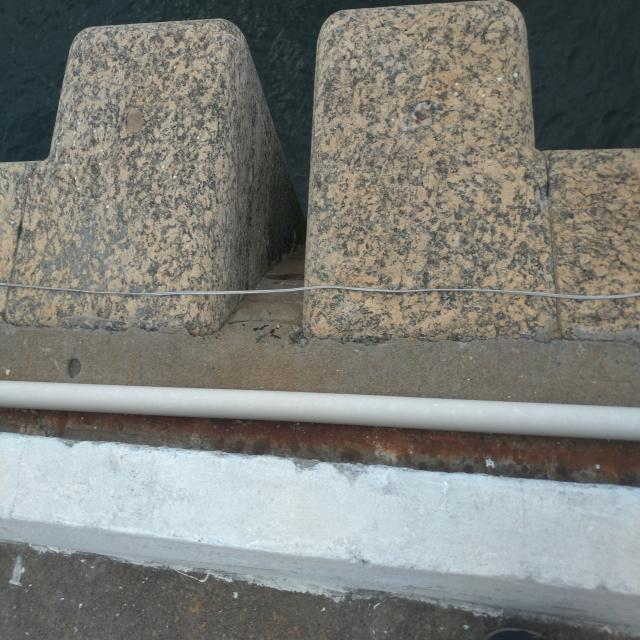gas: (0, 381, 639, 441)
